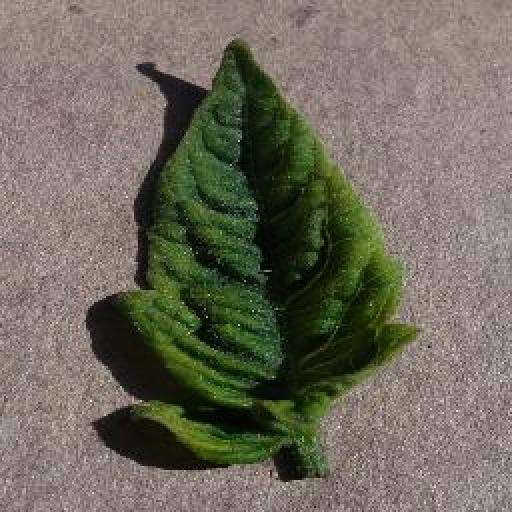disease_tomato: (120, 34, 424, 466)
